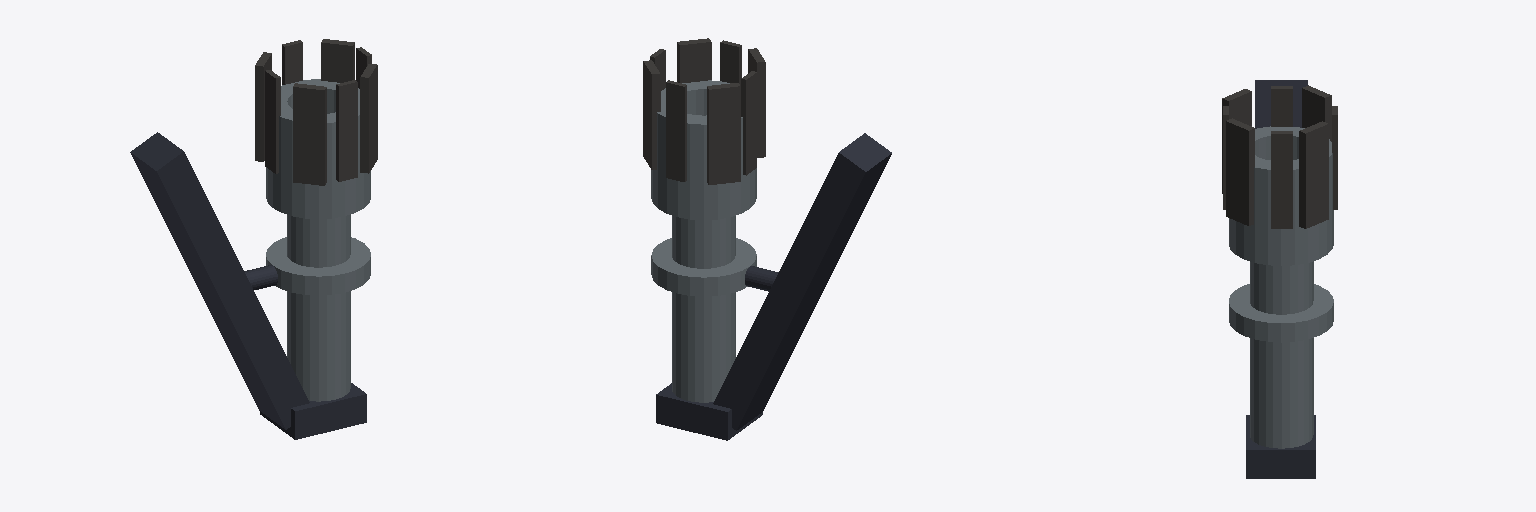
Rendered from WallSconce.obj.
3 views of the same model, side by side, from view 1: azimuth 30°, elevation 25°; view 2: azimuth 150°, elevation 25°; view 3: azimuth 270°, elevation 25° (orthographic).
Visible parts, largest first — view 1: block_quarter, cylinderHollow, cylinder, block_half, attachment_barrelThin; view 2: block_quarter, cylinderHollow, cylinder, block_half, attachment_barrelThin; view 3: block_quarter, cylinderHollow, cylinder, block_half.
Part boxes in pixels (x1,y1,x2,y2): block_quarter: (130, 39, 377, 429); cylinderHollow: (266, 79, 370, 295); cylinder: (287, 214, 350, 401); block_half: (260, 383, 366, 439); attachment_barrelThin: (244, 265, 277, 289); block_quarter: (643, 38, 891, 430); cylinderHollow: (651, 80, 756, 296); cylinder: (672, 216, 735, 402); block_half: (656, 383, 762, 440); attachment_barrelThin: (745, 266, 778, 291); block_quarter: (1222, 80, 1337, 228); cylinderHollow: (1229, 126, 1333, 342); cylinder: (1250, 261, 1313, 448); block_half: (1246, 415, 1315, 478).
Size of the model in its own units: 0.1299 by 0.1963 by 0.0581.